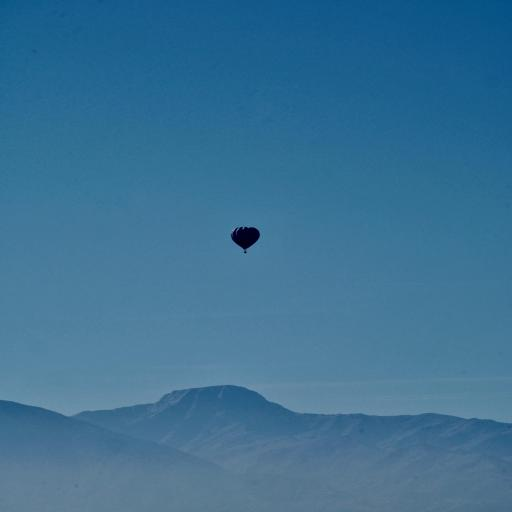hot air ballon: (231, 227, 260, 253)
